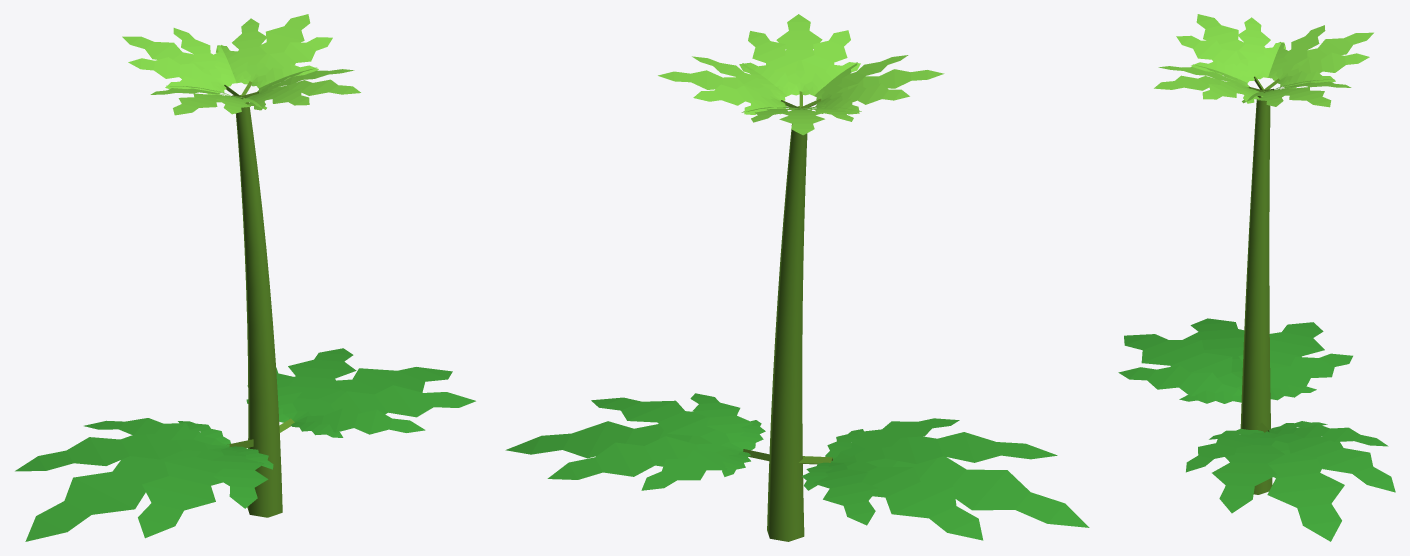
File: Weed_Plant_S1_Seedling.glb
The picture shows the model from 3 angles, left to right: view 1: azimuth 30°, elevation 25°; view 2: azimuth 150°, elevation 25°; view 3: azimuth 270°, elevation 25°; orthographic projection. The views are drawn at different scales.
Visible parts, largest first — view 1: Weed_Plant_S1_Seedling_Plant; view 2: Weed_Plant_S1_Seedling_Plant; view 3: Weed_Plant_S1_Seedling_Plant.
Part boxes in pixels (<box>): Weed_Plant_S1_Seedling_Plant: <box>15,14,475,541</box>; Weed_Plant_S1_Seedling_Plant: <box>505,14,1089,541</box>; Weed_Plant_S1_Seedling_Plant: <box>1118,14,1395,541</box>.
Bounding box in the file's own units: 0.1282 × 0.1109 × 0.0667.
